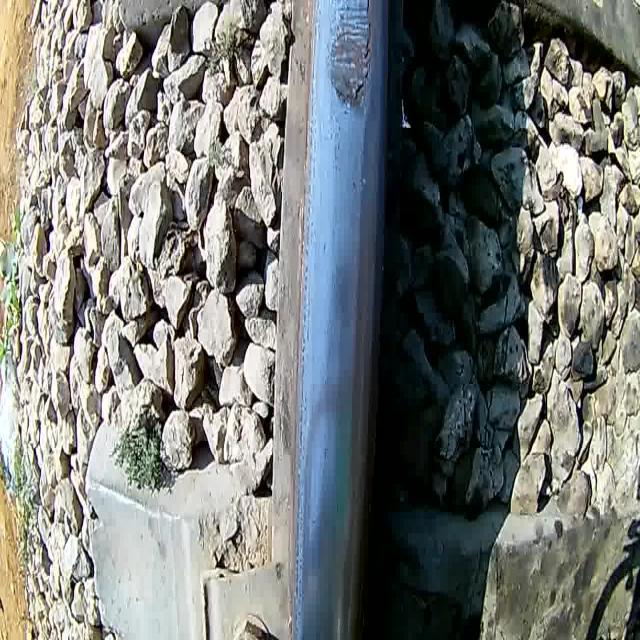Cracks: (352, 0, 371, 106)
Squats: (321, 0, 382, 130)
